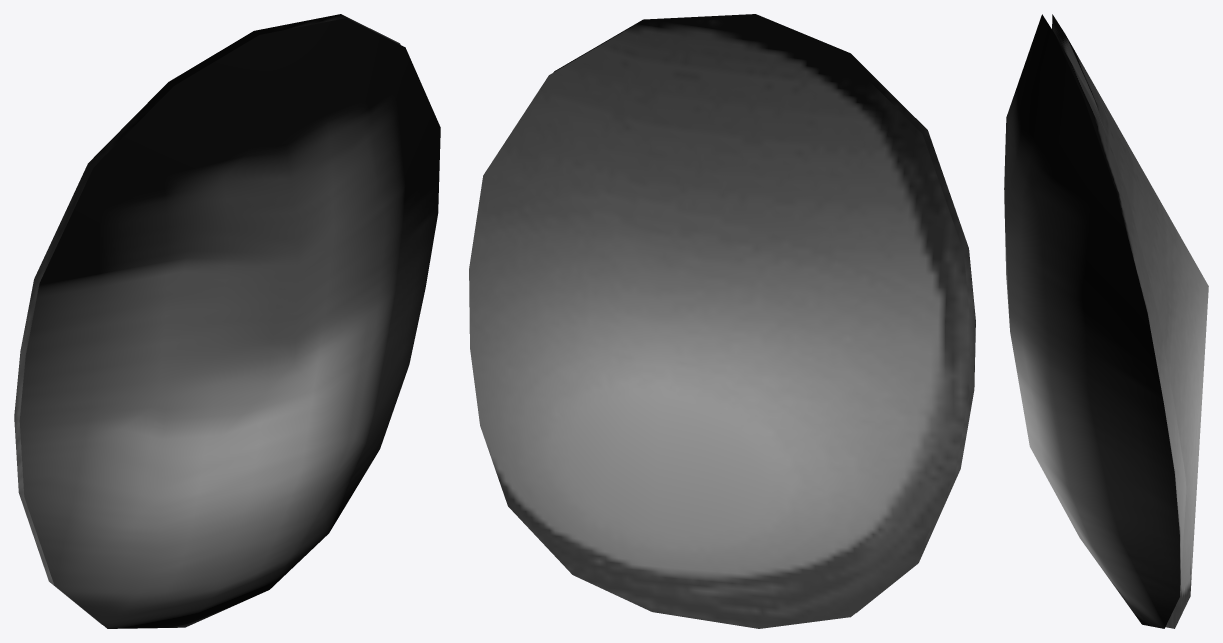
The model's file is mesh_Eye3_L.fbx.
The picture shows the model from 3 angles, left to right: view 1: azimuth 30°, elevation 25°; view 2: azimuth 150°, elevation 25°; view 3: azimuth 270°, elevation 25°; orthographic projection. The views are drawn at different scales.
Visible parts, largest first — view 1: mesh_Eye3_L_Cover, mesh_Eye3_L_back; view 2: mesh_Eye3_L_back, mesh_Eye3_L; view 3: mesh_Eye3_L_Cover, mesh_Eye3_L_back, mesh_Eye3_L.
Part boxes in pixels (<box>): mesh_Eye3_L_Cover: <box>19,18,440,628</box>; mesh_Eye3_L_back: <box>14,14,400,624</box>; mesh_Eye3_L_back: <box>469,18,970,628</box>; mesh_Eye3_L: <box>553,14,975,612</box>; mesh_Eye3_L_Cover: <box>1004,14,1179,628</box>; mesh_Eye3_L_back: <box>1052,14,1208,628</box>; mesh_Eye3_L: <box>1055,35,1186,595</box>.
Size of the model in its own units: 4.92 by 6.05 by 1.98.
Materials: 1 (1 with a texture image).
